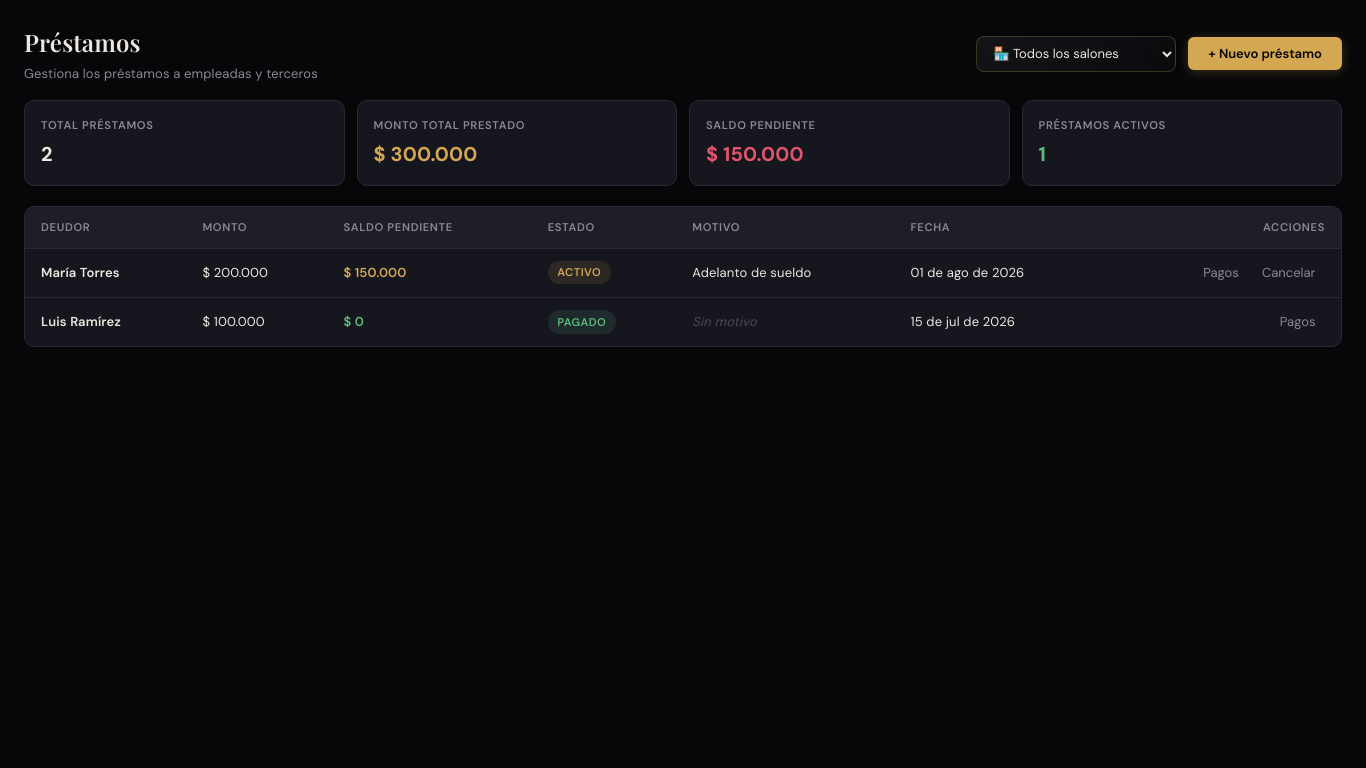
PrestamosPage — móvil (cards ≤600px) › el modal de crear préstamo usa las clases bottom-sheet en móvil (D10)
Click the button "+ Nuevo préstamo".
click(1265, 54)  # box [1188, 37, 1342, 70]
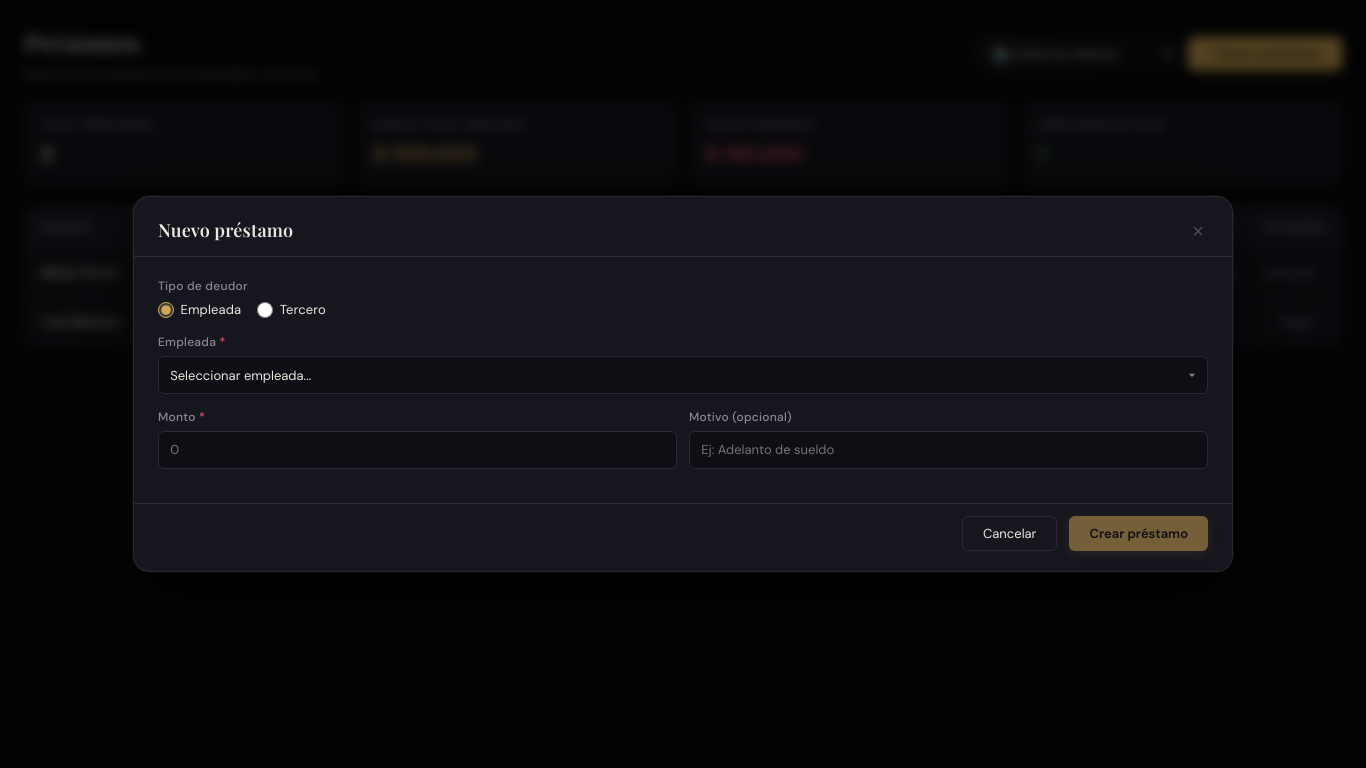
Expected: the element with class "mobileBottomSheet" is shown
Expected: the element with class "mobileBottomSheetContent" is shown, [133, 196, 1233, 572]
Expected: the heading "Nuevo préstamo" is shown, [158, 217, 293, 244]
